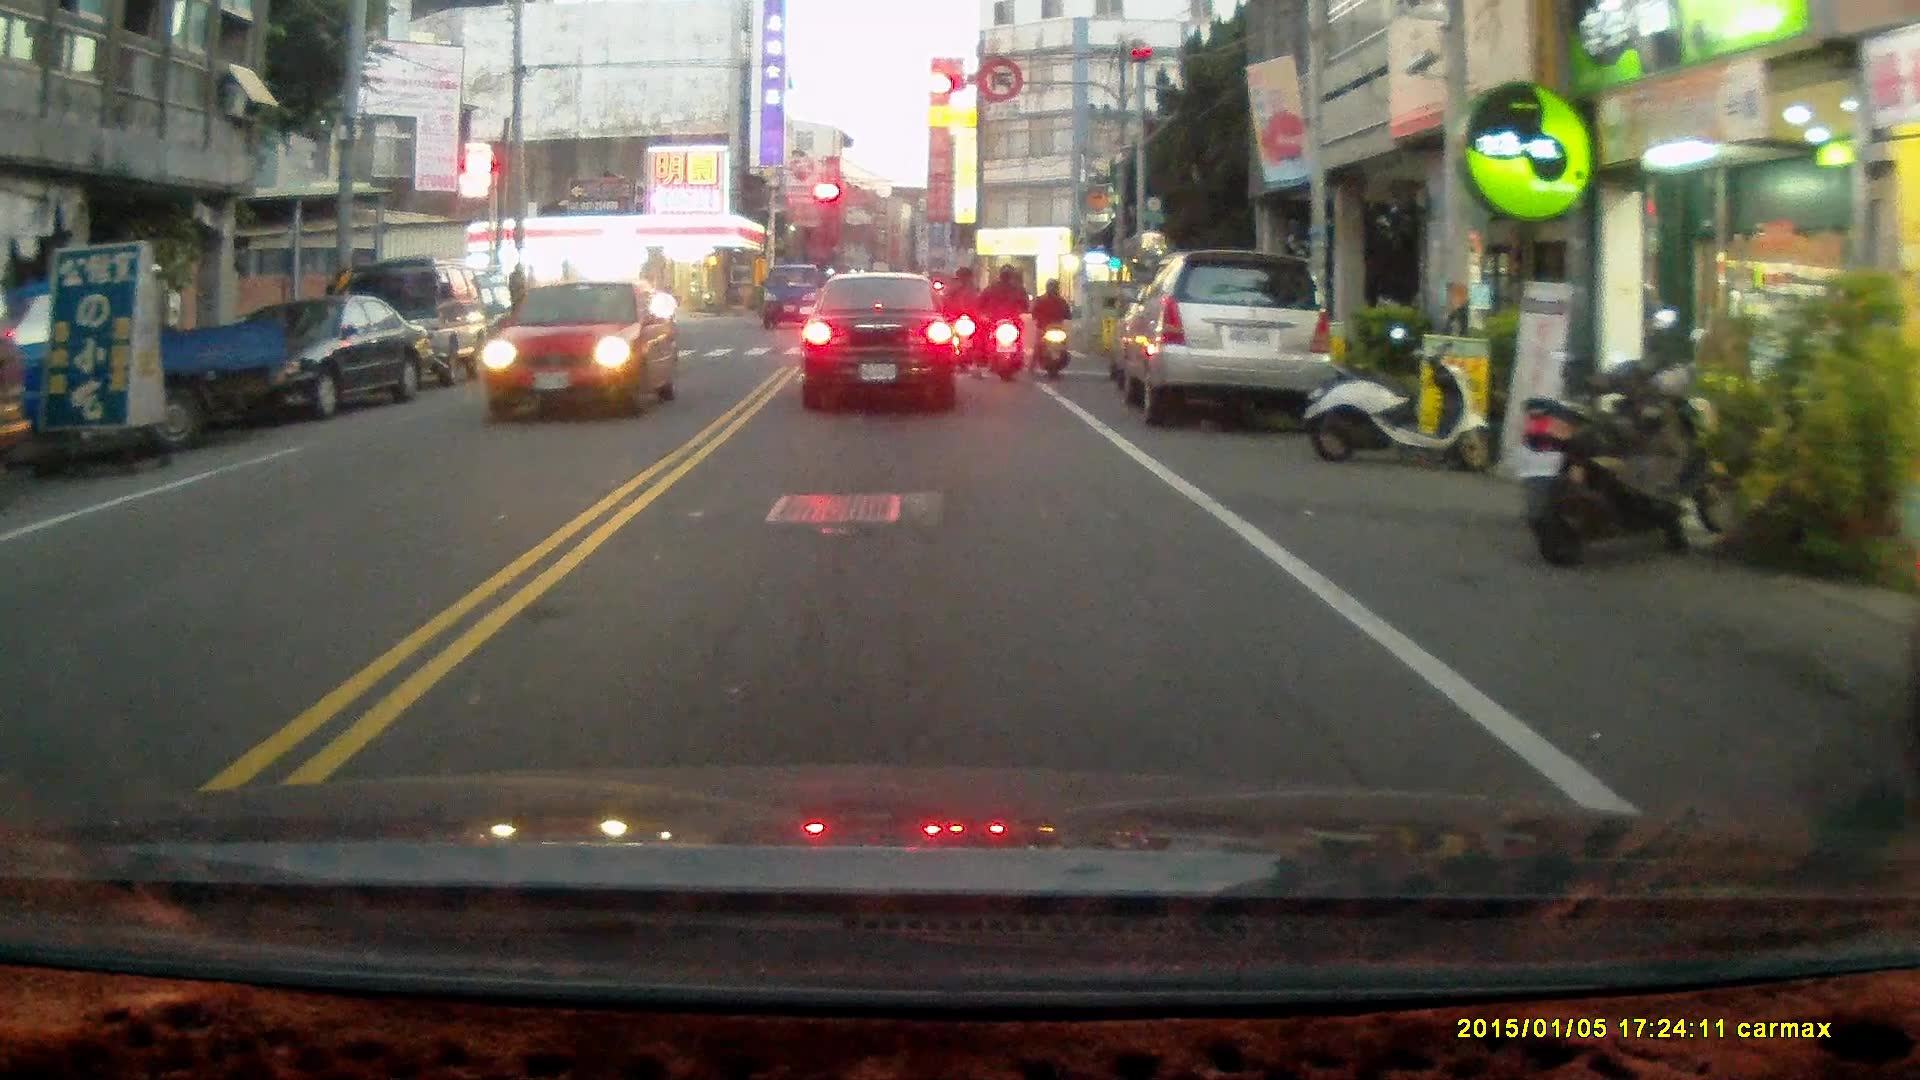rider: (972, 264, 1028, 387), (1026, 277, 1072, 383), (937, 266, 979, 375), (646, 281, 680, 340)
vehicle: (1114, 250, 1341, 435), (187, 293, 427, 419), (474, 276, 678, 421), (799, 270, 957, 416), (329, 253, 487, 394)
